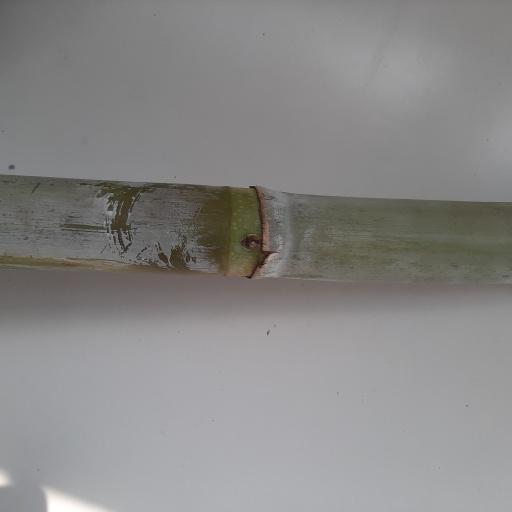Bud: (239, 232, 263, 249)
